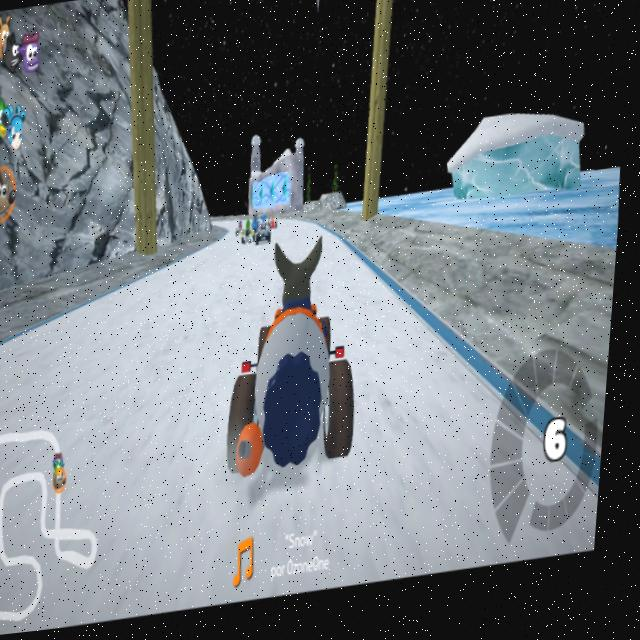enemy_kart: (235, 223, 285, 254)
player_kart: (227, 245, 374, 478)
